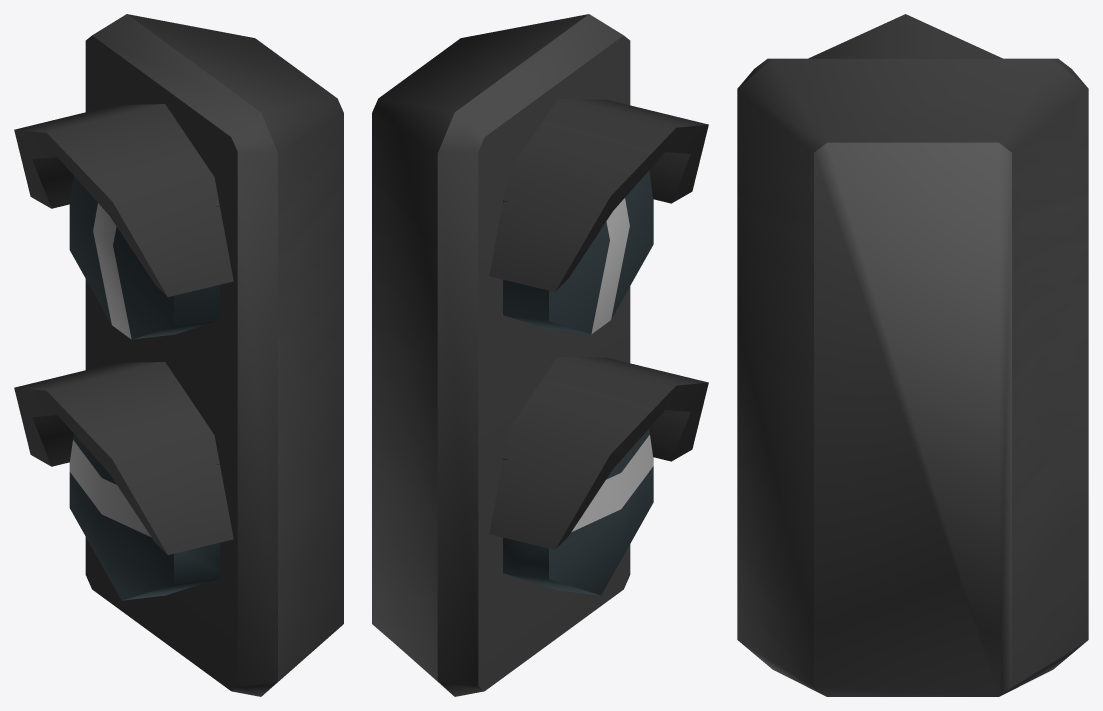
Rendered from Lights_1_3.fbx.
The picture shows the model from 3 angles, left to right: view 1: azimuth 30°, elevation 25°; view 2: azimuth 150°, elevation 25°; view 3: azimuth 270°, elevation 25°; orthographic projection. The views are drawn at different scales.
Parts seen in each view (by area): view 1: Lights_1_3; view 2: Lights_1_3; view 3: Lights_1_3.
Boxes of the visible parts, bbox=[...] form: Lights_1_3: bbox=[14, 14, 343, 696]; Lights_1_3: bbox=[372, 14, 708, 696]; Lights_1_3: bbox=[737, 14, 1088, 696].
Bounding box in the file's own units: 28.94 × 63.86 × 33.33.
